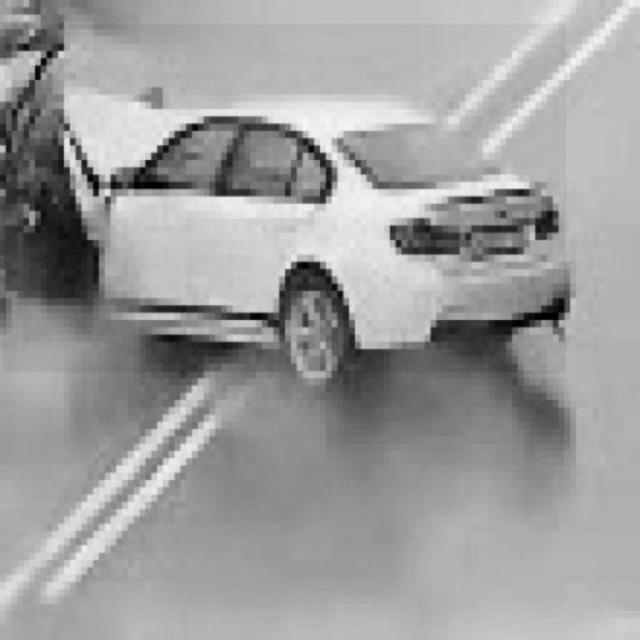accident: (4, 24, 566, 372)
